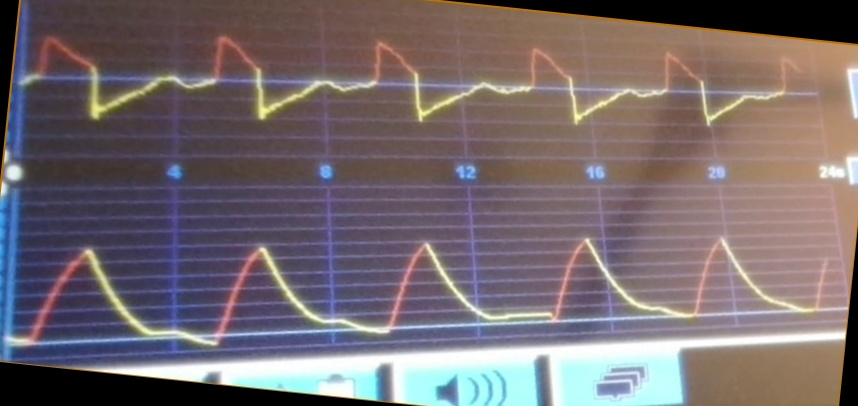Ineffective_effort Flow: (27, 30, 800, 134)
Ineffective_effort Volume: (18, 229, 831, 346)
